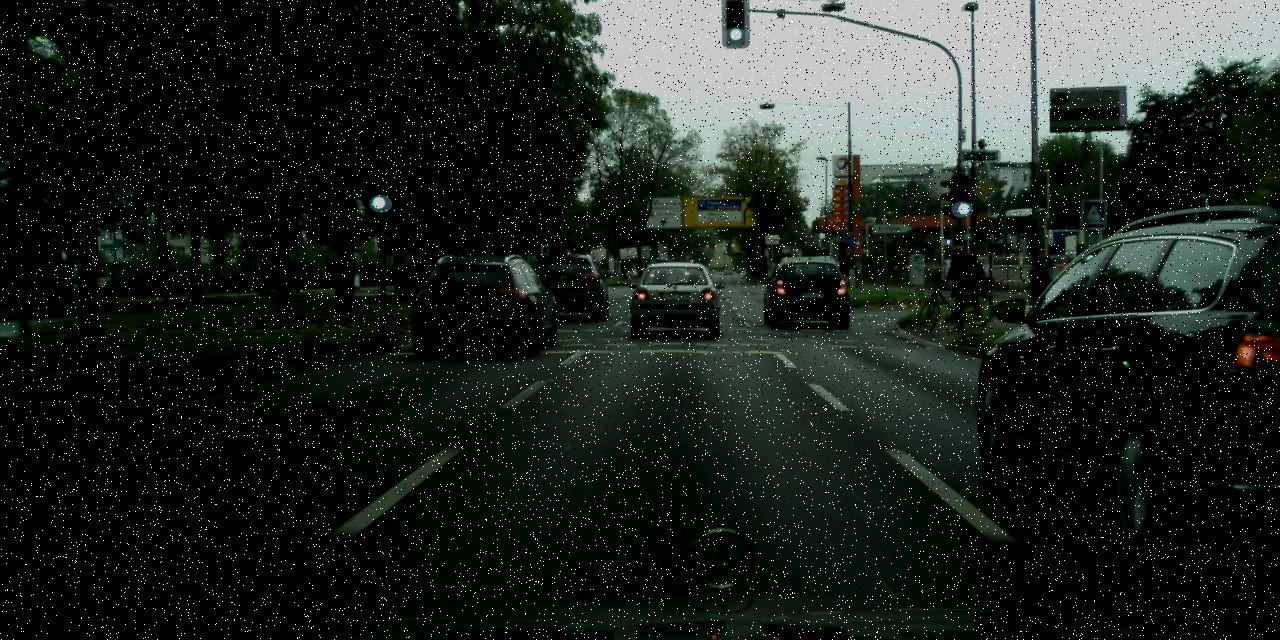ped: (940, 241, 968, 312)
